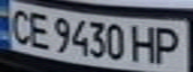0: (106, 20, 130, 61)
3: (87, 19, 109, 60)
4: (66, 17, 90, 56)
9: (48, 15, 72, 54)
C: (3, 6, 36, 46)
E: (24, 8, 54, 50)
H: (127, 21, 163, 64)
P: (151, 24, 187, 66)
